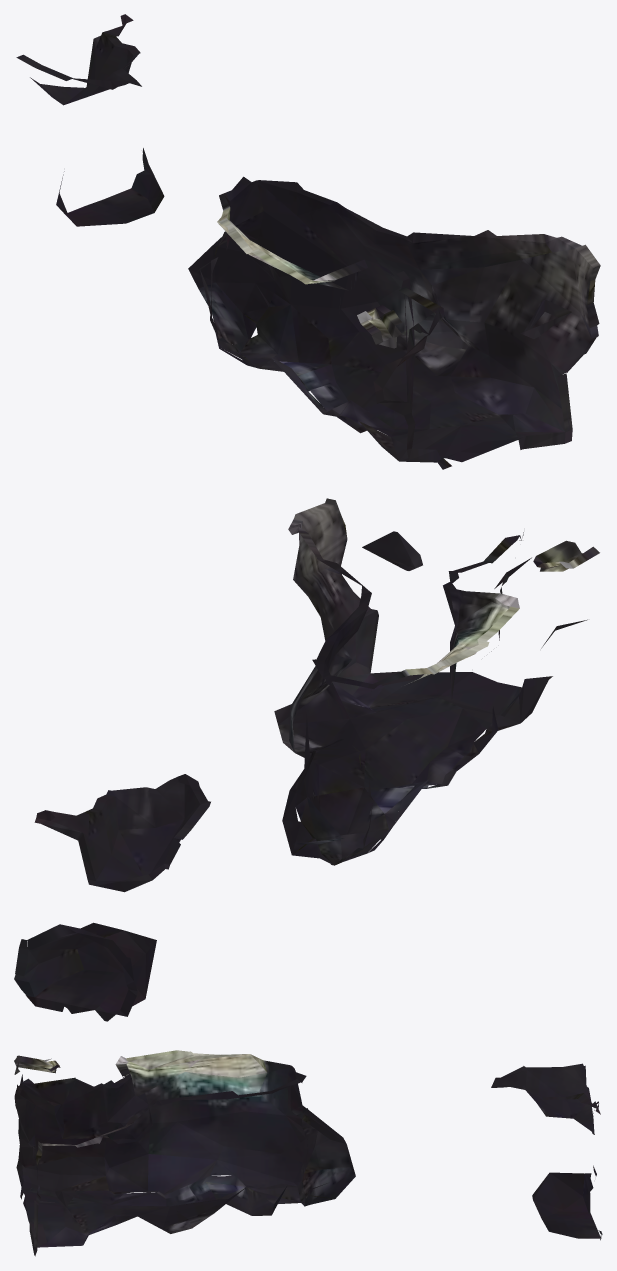
3 renders of one model, top to bottom at view 1: azimuth 30°, elevation 25°; view 2: azimuth 150°, elevation 25°; view 3: azimuth 270°, elevation 25°, orthographic. The views are drawn at different scales.
Visible parts, largest first — view 1: Mesh_0; view 2: Mesh_0; view 3: Mesh_0.
Part boxes in pixels (left/top/right/bottom): Mesh_0: left=16, top=14, right=600, bottom=469; Mesh_0: left=14, top=498, right=599, bottom=1021; Mesh_0: left=14, top=1050, right=602, bottom=1256.
Bounding box in the file's own units: 15.26 × 10.88 × 39.74.
Materials: 1 (1 with a texture image).
